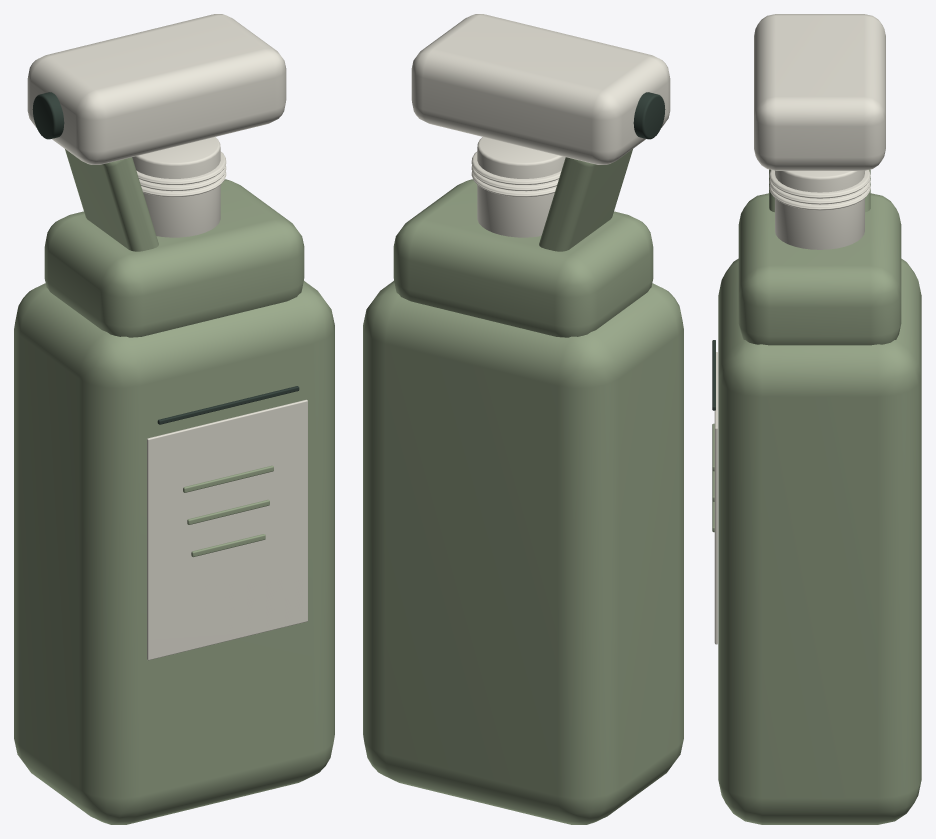
Rendered from refill.glb.
3 views of the same model, side by side, from view 1: azimuth 30°, elevation 25°; view 2: azimuth 150°, elevation 25°; view 3: azimuth 270°, elevation 25° (orthographic). The views are drawn at different scales.
Parts seen in each view (by area): view 1: Measured refill bottle molded body, Measured refill bottle task label, Measured refill bottle trigger head, Measured refill bottle shoulder, Measured refill bottle neck, Measured refill bottle squeeze lever, Measured refill bottle adjustable nozzle, Measured refill bottle fill-line marker, Measured refill bottle closure ring 4, Measured refill bottle label rule 0; view 2: Measured refill bottle molded body, Measured refill bottle trigger head, Measured refill bottle shoulder, Measured refill bottle neck, Measured refill bottle squeeze lever, Measured refill bottle adjustable nozzle, Measured refill bottle closure ring 4; view 3: Measured refill bottle molded body, Measured refill bottle trigger head, Measured refill bottle shoulder, Measured refill bottle neck, Measured refill bottle task label, Measured refill bottle closure ring 4, Measured refill bottle closure ring 2, Measured refill bottle closure ring 0.
Part boxes in pixels (left/top/right/bottom): Measured refill bottle molded body: left=14, top=281, right=334, bottom=824; Measured refill bottle task label: left=147, top=399, right=307, bottom=660; Measured refill bottle trigger head: left=27, top=14, right=286, bottom=164; Measured refill bottle shoulder: left=44, top=179, right=304, bottom=337; Measured refill bottle neck: left=132, top=137, right=220, bottom=237; Measured refill bottle squeeze lever: left=65, top=149, right=158, bottom=251; Measured refill bottle adjustable nozzle: left=32, top=92, right=64, bottom=139; Measured refill bottle fill-line marker: left=157, top=386, right=299, bottom=424; Measured refill bottle closure ring 4: left=136, top=151, right=226, bottom=184; Measured refill bottle label rule 0: left=183, top=465, right=273, bottom=492; Measured refill bottle molded body: left=363, top=281, right=683, bottom=824; Measured refill bottle trigger head: left=411, top=14, right=670, bottom=164; Measured refill bottle shoulder: left=393, top=179, right=653, bottom=337; Measured refill bottle neck: left=477, top=137, right=565, bottom=237; Measured refill bottle squeeze lever: left=539, top=149, right=632, bottom=251; Measured refill bottle adjustable nozzle: left=633, top=92, right=665, bottom=139; Measured refill bottle closure ring 4: left=471, top=151, right=561, bottom=184; Measured refill bottle molded body: left=718, top=258, right=921, bottom=824; Measured refill bottle trigger head: left=754, top=14, right=885, bottom=170; Measured refill bottle shoulder: left=738, top=193, right=901, bottom=345; Measured refill bottle neck: left=775, top=170, right=864, bottom=249; Measured refill bottle task label: left=714, top=352, right=717, bottom=644; Measured refill bottle closure ring 4: left=769, top=170, right=870, bottom=198; Measured refill bottle closure ring 2: left=769, top=179, right=870, bottom=204; Measured refill bottle closure ring 0: left=769, top=185, right=870, bottom=210.
Size of the model in its own units: 0.09 by 0.245 by 0.065.
